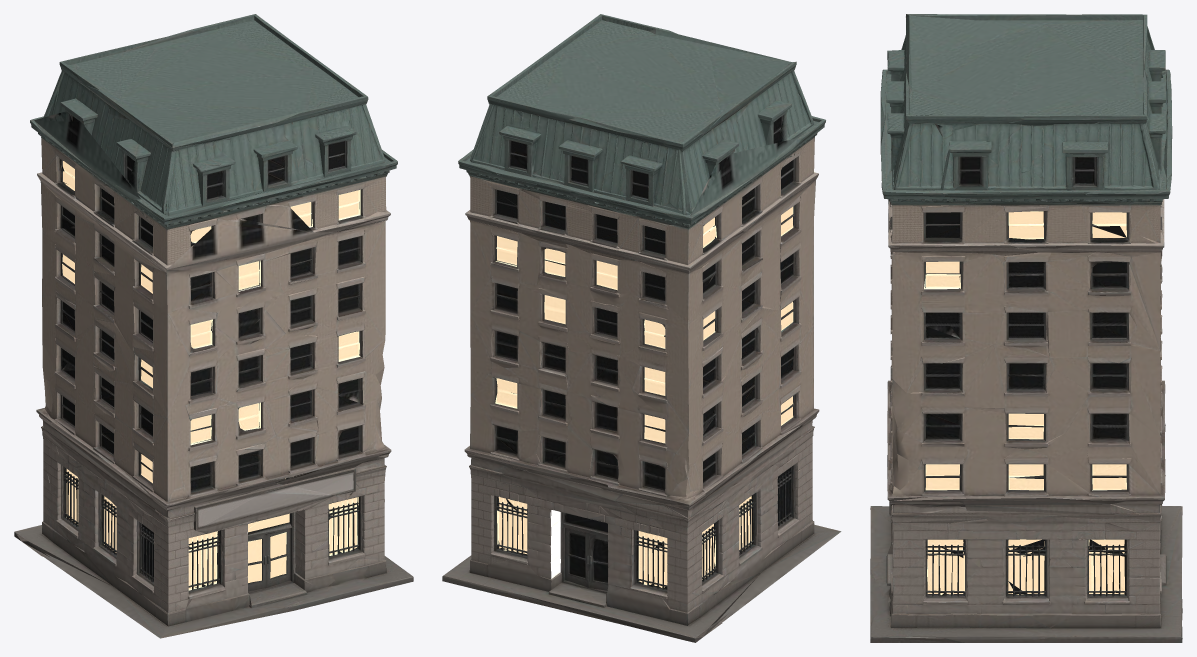
Rendered from tower-copper-mansard.glb.
The picture shows the model from 3 angles, left to right: view 1: azimuth 30°, elevation 25°; view 2: azimuth 150°, elevation 25°; view 3: azimuth 270°, elevation 25°; orthographic projection. The views are drawn at different scales.
Parts seen in each view (by area): view 1: Mesh_0; view 2: Mesh_0; view 3: Mesh_0.
Boxes of the visible parts, left/top/right/bottom form: Mesh_0: left=14, top=14, right=413, bottom=638; Mesh_0: left=442, top=14, right=841, bottom=642; Mesh_0: left=870, top=14, right=1182, bottom=642.
Size of the model in its own units: 15.48 by 28 by 15.47.
Materials: 3 (3 with a texture image).
